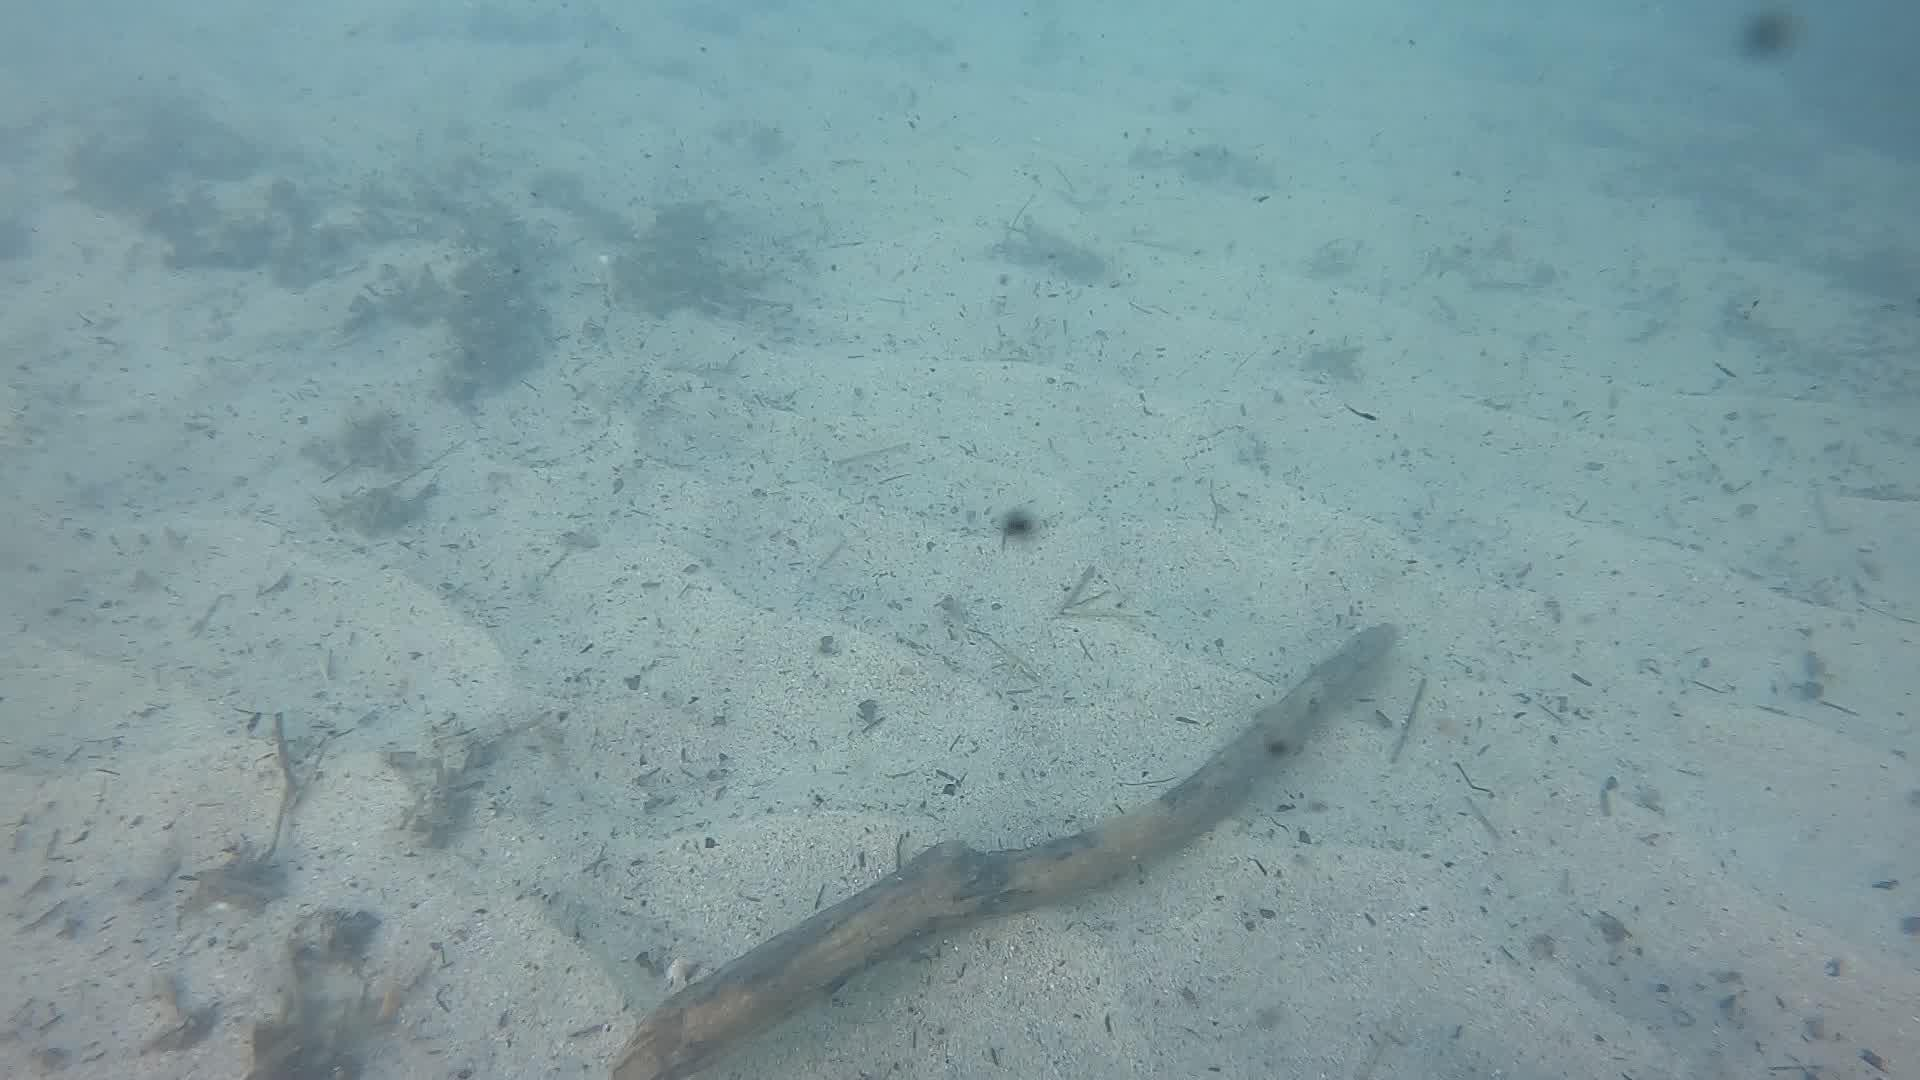wood: (607, 618, 1402, 1080)
